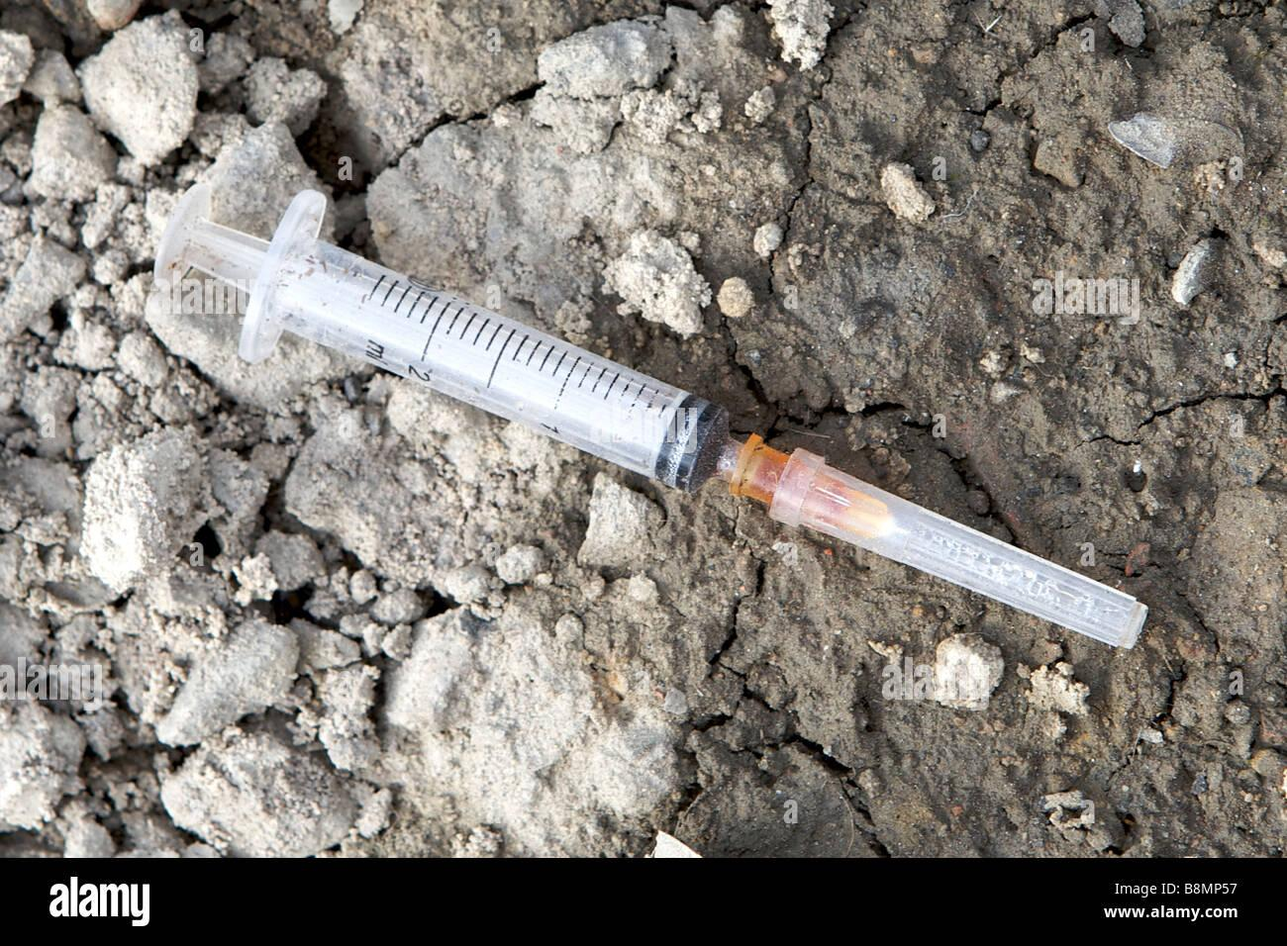Syringe: (154, 185, 1145, 647)
